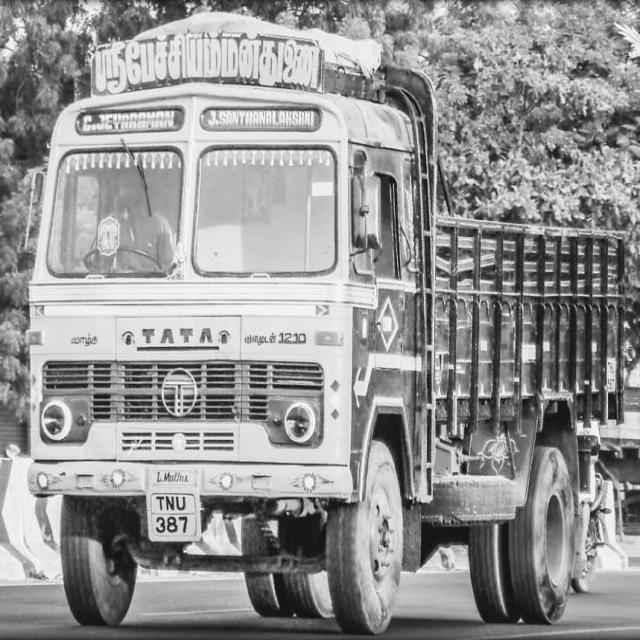Truck: (21, 31, 630, 637)
